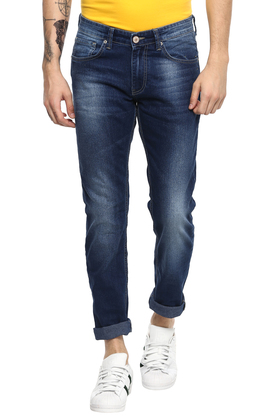jeans: (53, 14, 208, 338)
